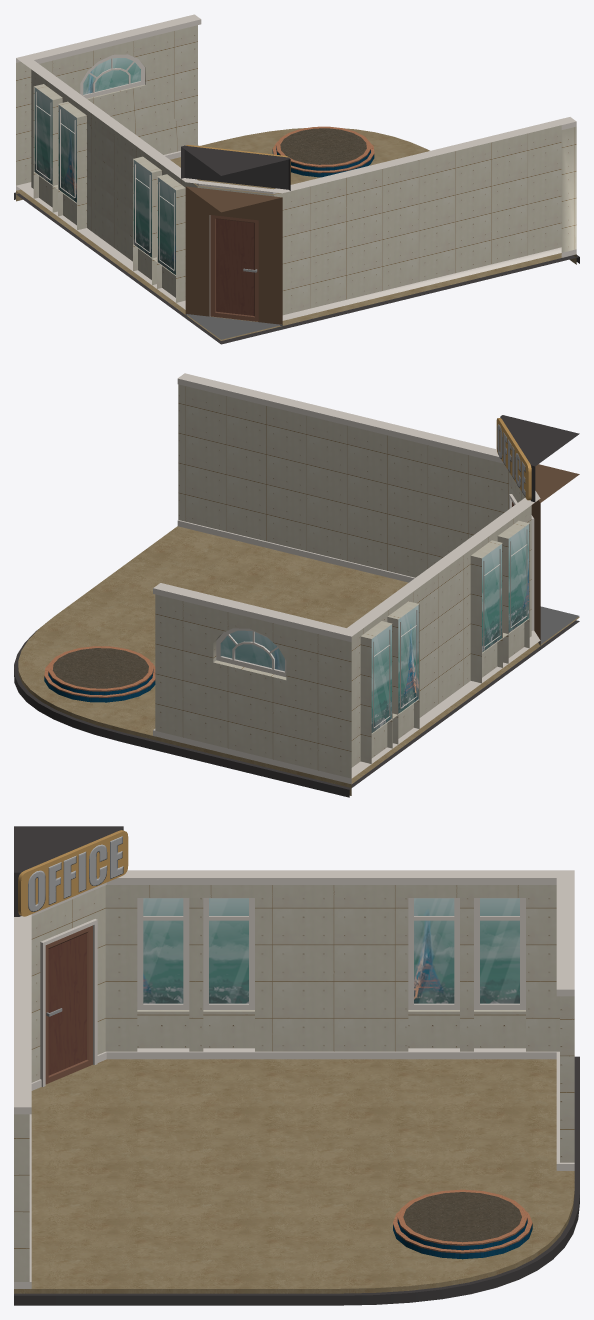
Rendered from interior_D_001.fbx.
3 views of the same model, one above another, from view 1: azimuth 30°, elevation 25°; view 2: azimuth 150°, elevation 25°; view 3: azimuth 270°, elevation 25° (orthographic). The views are drawn at different scales.
Visible parts, largest first — view 1: interior_D_001; view 2: interior_D_001; view 3: interior_D_001.
Boxes of the visible parts, <box> form: interior_D_001: <box>14,14,579,344</box>; interior_D_001: <box>14,373,579,797</box>; interior_D_001: <box>14,826,579,1305</box>.
Bounding box in the file's own units: 707 × 331 × 707.
